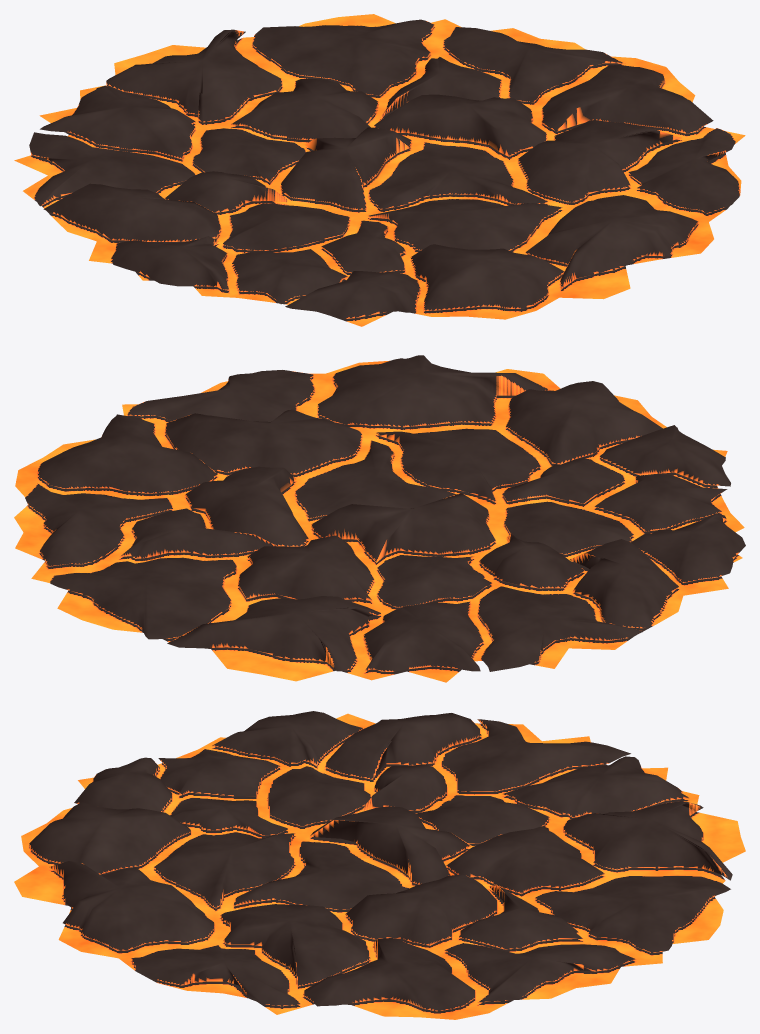
The model's file is crater-lava.glb.
The picture shows the model from 3 angles, top to bottom: view 1: azimuth 30°, elevation 25°; view 2: azimuth 150°, elevation 25°; view 3: azimuth 270°, elevation 25°; orthographic projection. The views are drawn at different scales.
Visible parts, largest first — view 1: Crater lava basin; view 2: Crater lava basin; view 3: Crater lava basin.
Boxes of the visible parts, x1=… form: Crater lava basin: x1=14, y1=14, x2=745, y2=326; Crater lava basin: x1=14, y1=355, x2=745, y2=682; Crater lava basin: x1=14, y1=711, x2=745, y2=1019.
Size of the model in its own units: 2.54 by 0.0999 by 2.56.
1 material, 1 textured.
